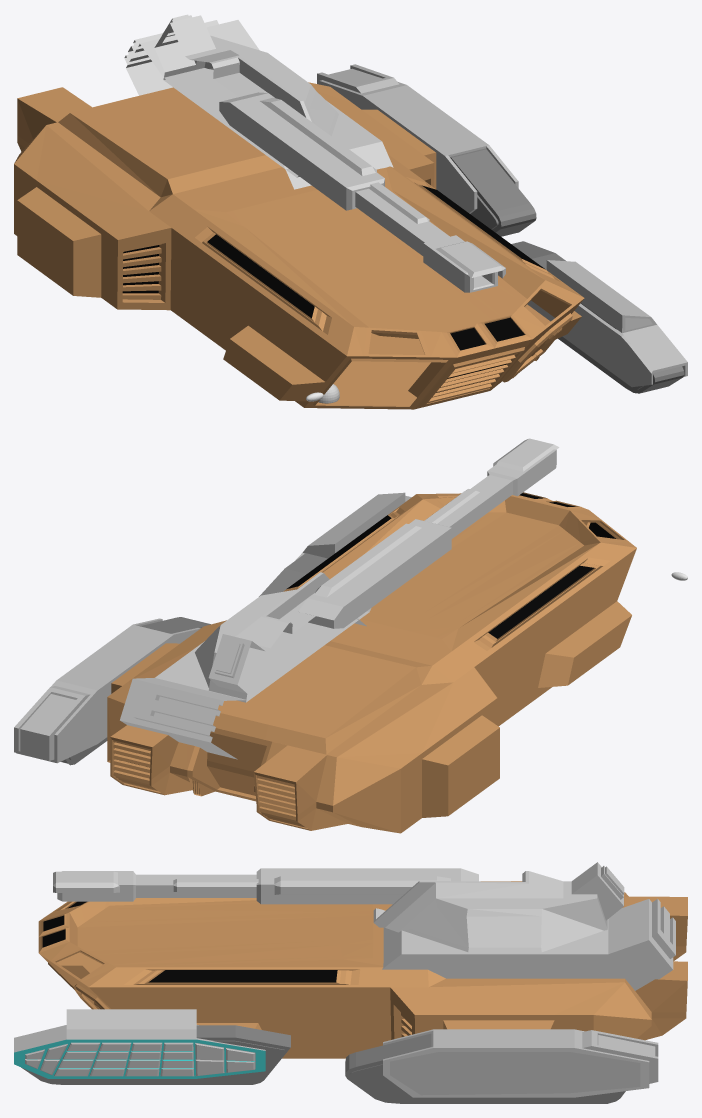
The model's file is Hover Tank Blend.dae.
The picture shows the model from 3 angles, top to bottom: view 1: azimuth 30°, elevation 25°; view 2: azimuth 150°, elevation 25°; view 3: azimuth 270°, elevation 25°; orthographic projection. The views are drawn at different scales.
Visible parts, largest first — view 1: Cube, Cañon, Torreta, Cubre_Orugas_2, Cubre_Orugas, Centro, Orugas, Cañon_001, Orugas_2, Cañon_003; view 2: Cube, Centro, Cañon, Cubre_Orugas, Torreta, Cubre_Orugas_2, Cañon_001, Cañon_003, Orugas_2, Orugas; view 3: Cube, Cubre_Orugas, Torreta, Cubre_Orugas_2, Centro, Cañon, Orugas, Orugas_2, Cañon_001, Cañon_003.
Part boxes in pixels (x1=…): Cube: x1=14, y1=82, x2=584, y2=409; Cañon: x1=219, y1=92, x2=497, y2=292; Torreta: x1=154, y1=14, x2=338, y2=177; Cubre_Orugas_2: x1=527, y1=260, x2=687, y2=387; Cubre_Orugas: x1=317, y1=64, x2=518, y2=213; Centro: x1=124, y1=20, x2=393, y2=189; Orugas: x1=450, y1=148, x2=536, y2=236; Cañon_001: x1=260, y1=97, x2=376, y2=175; Orugas_2: x1=511, y1=241, x2=684, y2=393; Cañon_003: x1=436, y1=241, x2=505, y2=278; Cube: x1=107, y1=492, x2=636, y2=833; Centro: x1=120, y1=618, x2=366, y2=759; Cañon: x1=298, y1=449, x2=556, y2=628; Cubre_Orugas: x1=14, y1=618, x2=200, y2=763; Torreta: x1=195, y1=572, x2=371, y2=702; Cubre_Orugas_2: x1=295, y1=492, x2=411, y2=560; Cañon_001: x1=314, y1=523, x2=421, y2=597; Cañon_003: x1=493, y1=438, x2=559, y2=471; Orugas_2: x1=259, y1=553, x2=327, y2=596; Orugas: x1=61, y1=617, x2=210, y2=765; Cube: x1=38, y1=881, x2=687, y2=1058; Cubre_Orugas: x1=383, y1=1029, x2=658, y2=1097; Torreta: x1=373, y1=862, x2=624, y2=952; Cubre_Orugas_2: x1=14, y1=1009, x2=265, y2=1078; Centro: x1=382, y1=899, x2=675, y2=990; Cañon: x1=57, y1=868, x2=478, y2=904; Orugas: x1=345, y1=1033, x2=625, y2=1103; Orugas_2: x1=21, y1=1025, x2=290, y2=1084; Cañon_001: x1=274, y1=876, x2=450, y2=894; Cañon_003: x1=53, y1=871, x2=119, y2=892.
Size of the model in its own units: 10.23 by 17.11 by 4.33.
